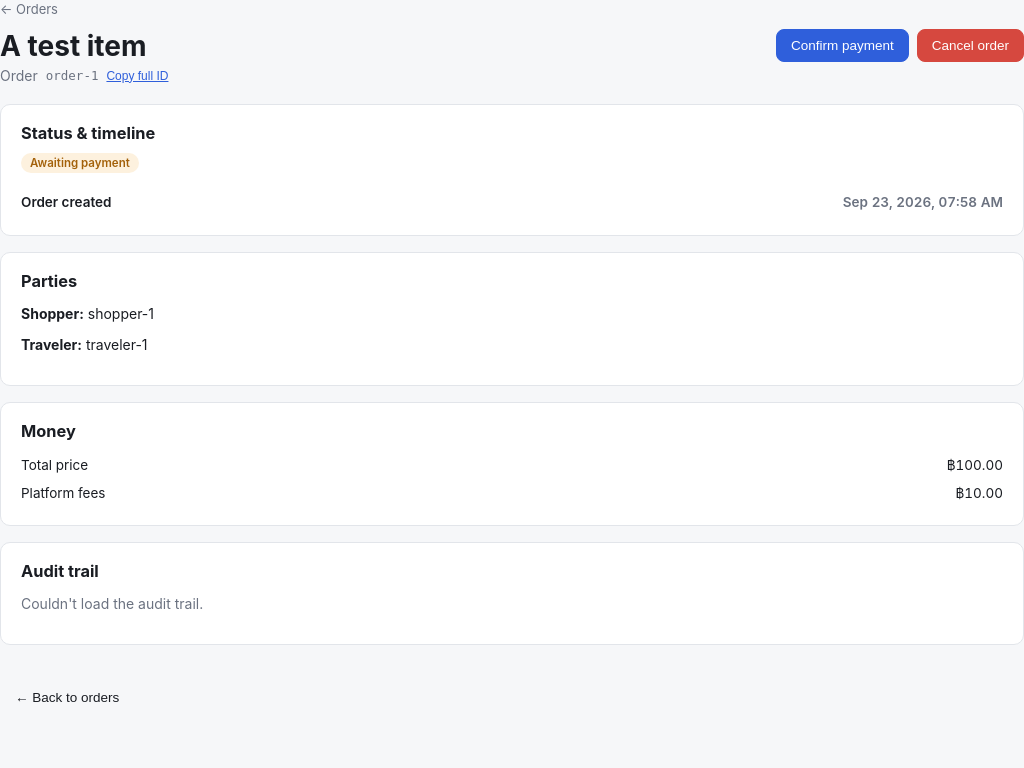
Test: OrderDetailPage action set › does not warn about a refund when cancelling an order with no confirmed payment
This screenshot has width=1024, height=768.
Click the button "Cancel order": (970, 46) [917,29,1023,62]
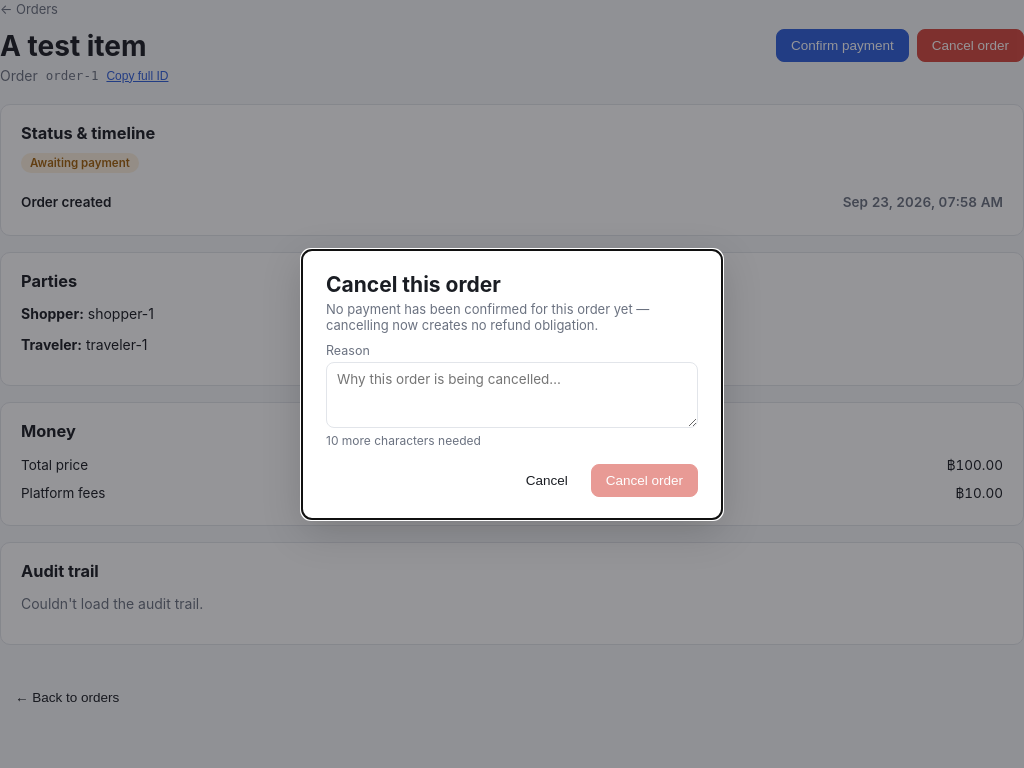
Now the text "no refund obligation" is shown, box [326,300,649,332]
